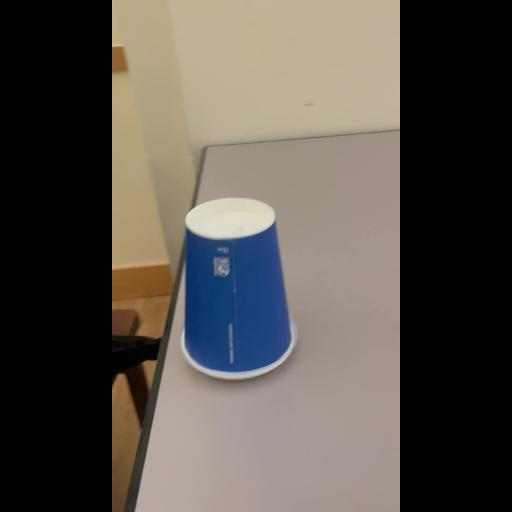lp_paper_cup: (164, 176, 328, 392)
